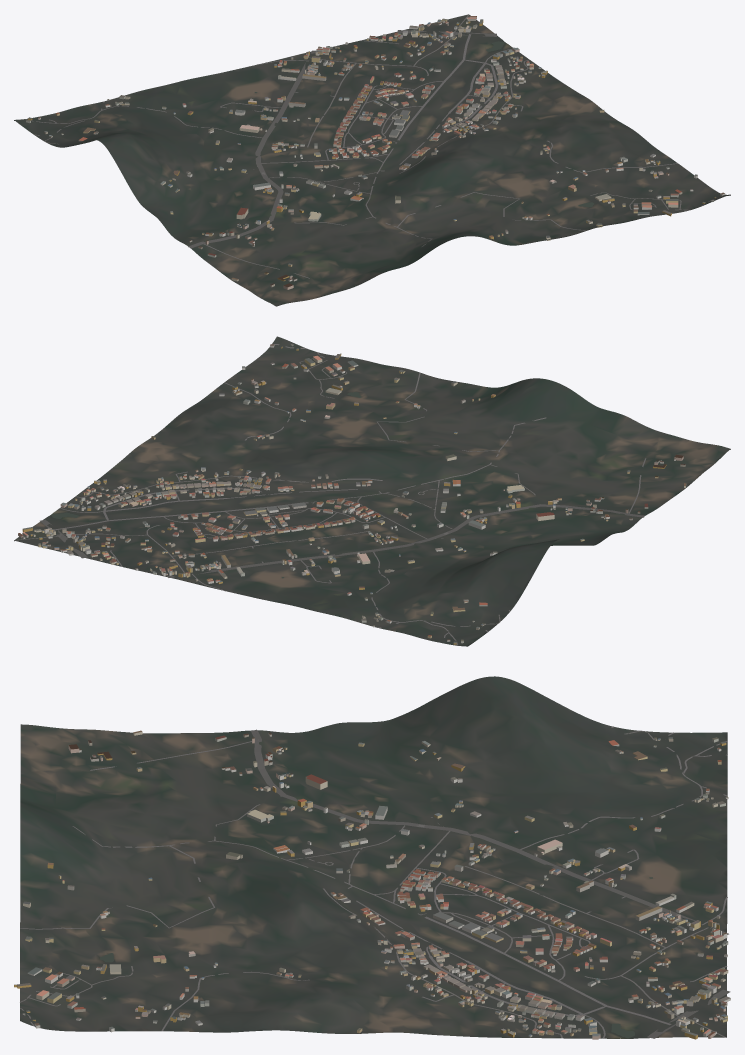
3 views of the same model, one above another, from view 1: azimuth 30°, elevation 25°; view 2: azimuth 150°, elevation 25°; view 3: azimuth 270°, elevation 25° (orthographic). The views are drawn at different scales.
Visible parts, largest first — view 1: ground, buildings, roads; view 2: ground, buildings, roads; view 3: ground, buildings, roads.
Boxes of the visible parts, x1,y1,x2,y2 form: ground: (14,14,730,306); buildings: (26,16,725,289); roads: (24,14,725,278); ground: (14,336,730,646); buildings: (18,344,686,644); roads: (14,344,646,645); ground: (20,676,727,1038); buildings: (14,730,730,1039); roads: (20,726,730,1038).
Bounding box in the file's own units: 1414 × 143 × 1422.
